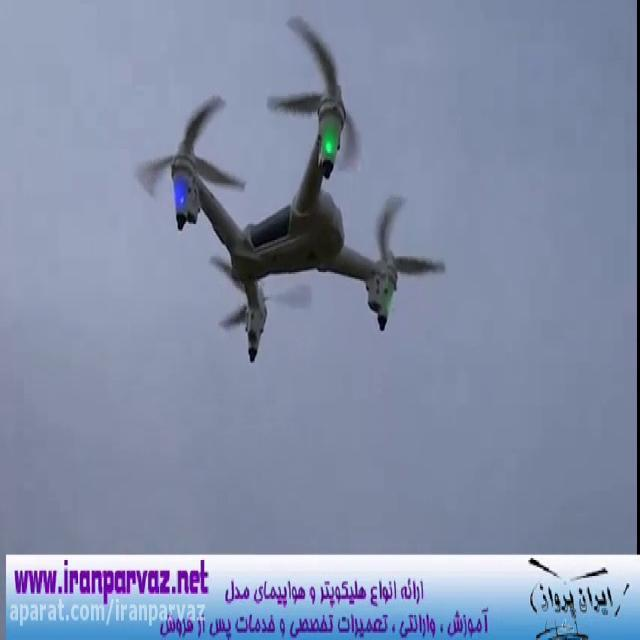drone: (128, 9, 452, 374)
